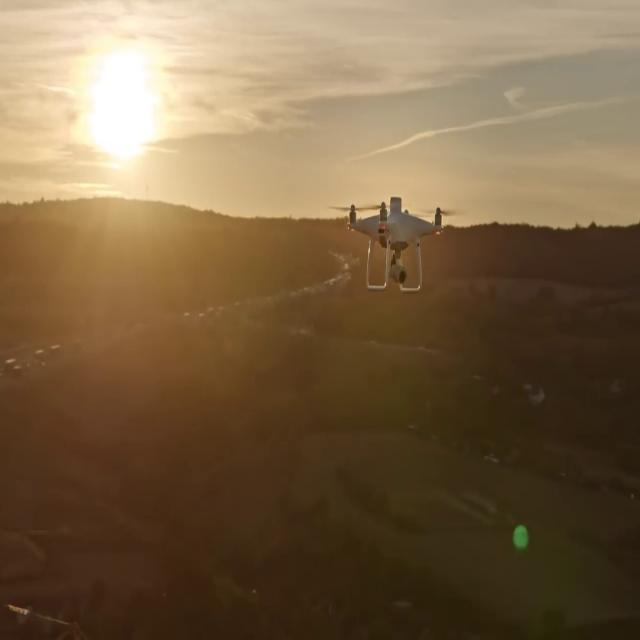drone: (328, 195, 458, 292)
